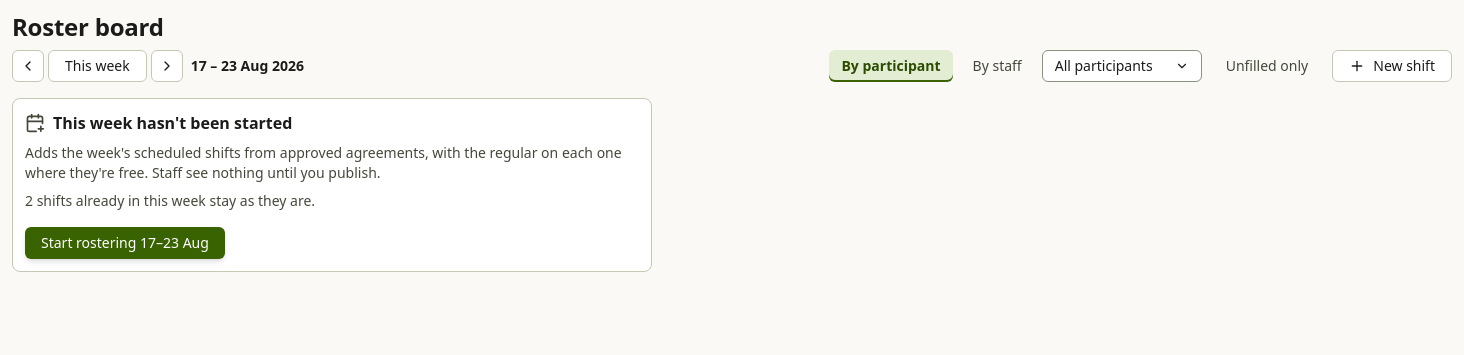
Test: Start rostering › busy or any other refusal: the server's words in the error Callout, and focus stays on the button
The image size is (1464, 355).
Click the button "Start rostering 17–23 Aug".
click(125, 243)  # box [25, 227, 225, 259]
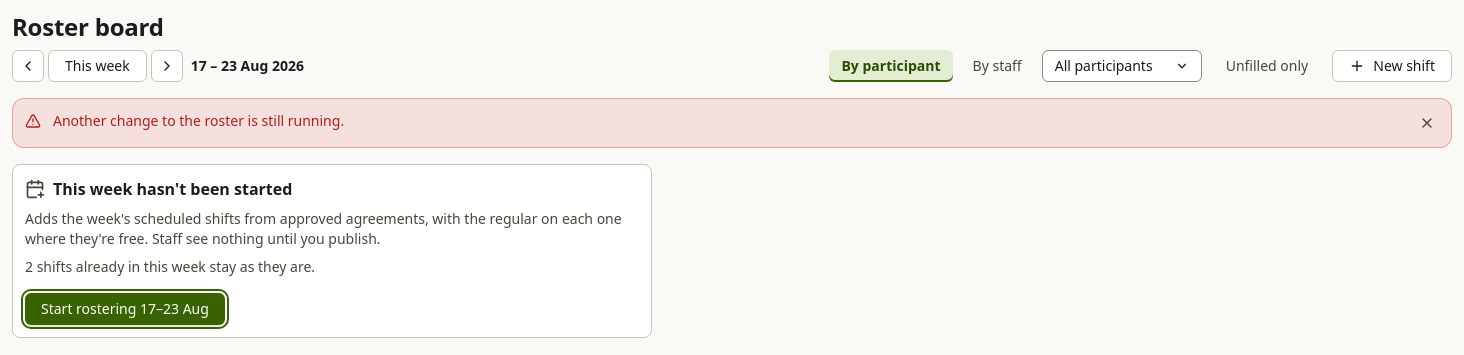
Result: the text "Another change to the roster is still running." is shown at [12, 98, 1452, 148]
Click the button "Start rostering 17–23 Aug".
click(125, 309)  # box [25, 293, 225, 325]
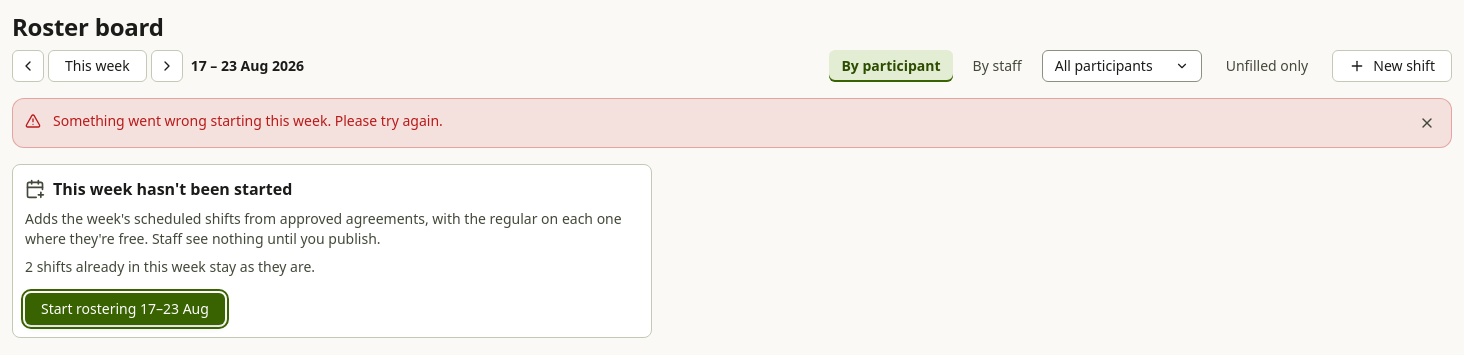
Result: the text "Something went wrong starting this week. Please try again." is shown at [53, 111, 443, 130]
